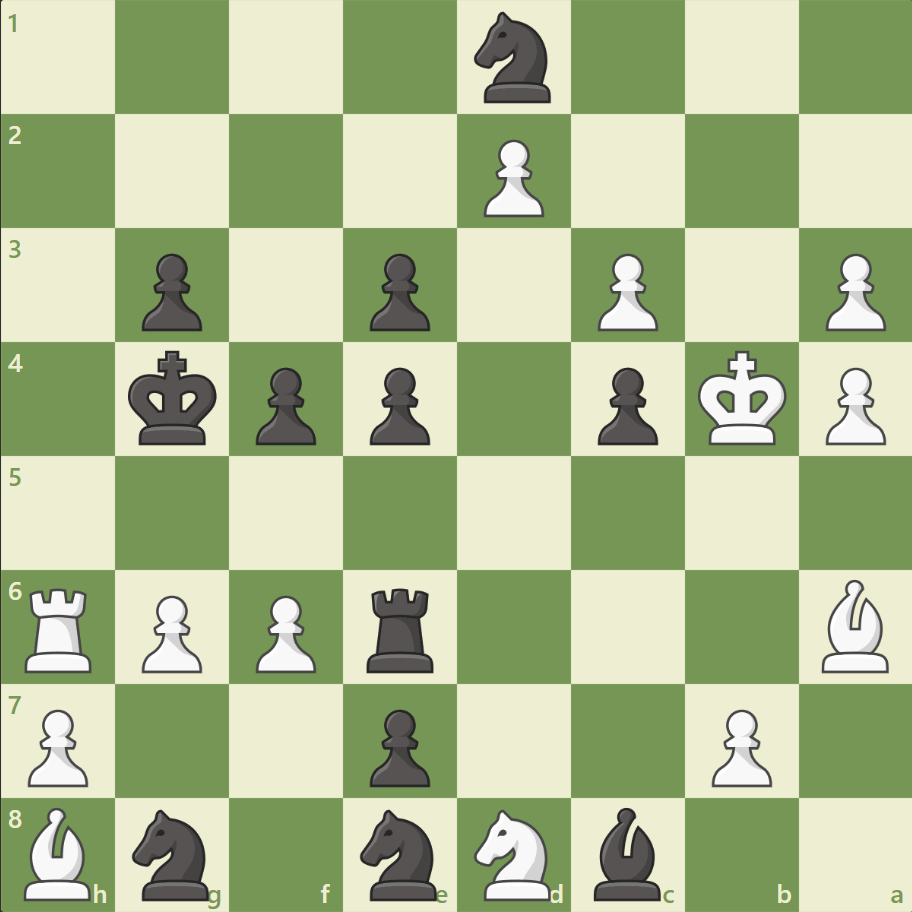B: (17, 801, 101, 904), (812, 574, 896, 676)
K: (692, 344, 792, 452)
N: (465, 802, 562, 904)
P: (701, 700, 776, 791), (20, 700, 95, 791), (247, 586, 322, 677), (133, 586, 208, 677), (474, 132, 549, 223), (815, 359, 889, 450), (815, 246, 889, 337), (588, 246, 662, 337)
R: (19, 579, 102, 676)
b: (585, 801, 669, 904)
k: (124, 344, 224, 452)
n: (351, 802, 449, 904), (124, 802, 222, 904), (465, 7, 562, 110)
p: (247, 359, 322, 450), (133, 246, 208, 337), (361, 700, 435, 791), (588, 359, 662, 450), (361, 359, 435, 450), (361, 246, 435, 337)
r: (360, 579, 442, 676)
